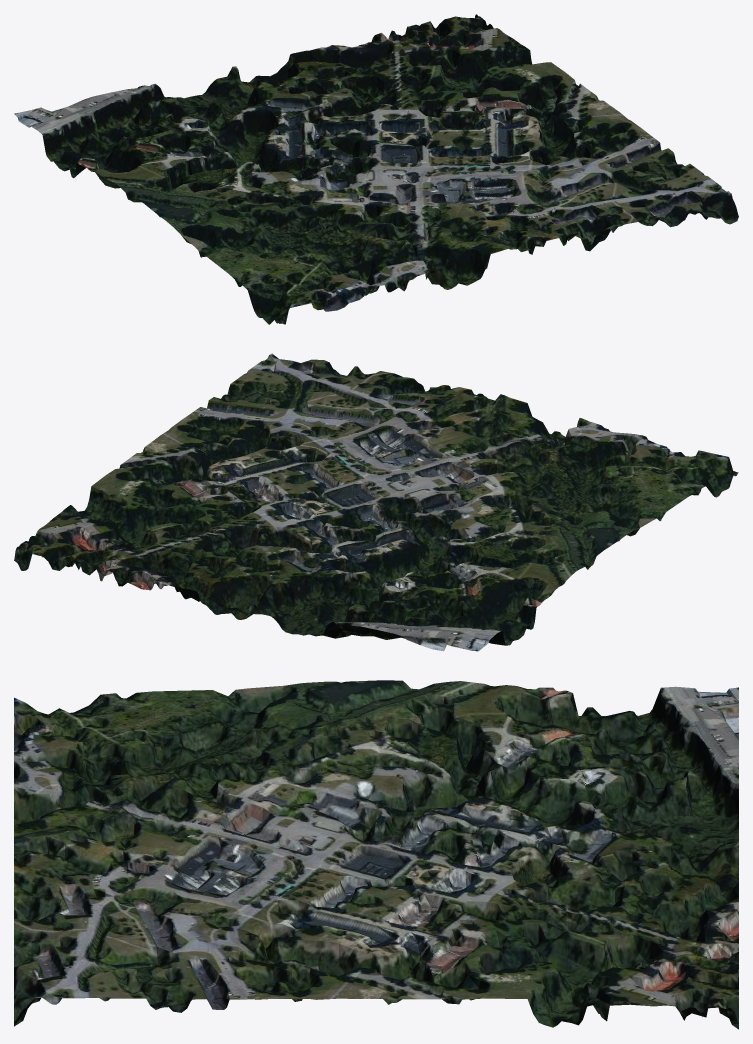
File: map_12_1020_1724.dae
The picture shows the model from 3 angles, top to bottom: view 1: azimuth 30°, elevation 25°; view 2: azimuth 150°, elevation 25°; view 3: azimuth 270°, elevation 25°; orthographic projection. The views are drawn at different scales.
Parts seen in each view (by area): view 1: Ter0; view 2: Ter0; view 3: Ter0.
Boxes of the visible parts, left/top/right/bottom form: Ter0: left=14, top=14, right=738, bottom=324; Ter0: left=14, top=353, right=738, bottom=651; Ter0: left=14, top=680, right=738, bottom=1029.
Bounding box in the file's own units: 511 × 511 × 38.19.
3 materials, 3 textured.
